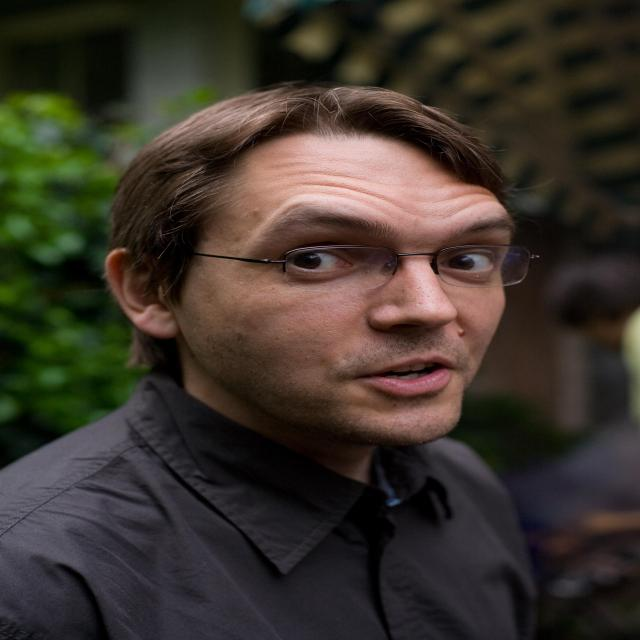no-glass: (263, 250, 506, 272)
